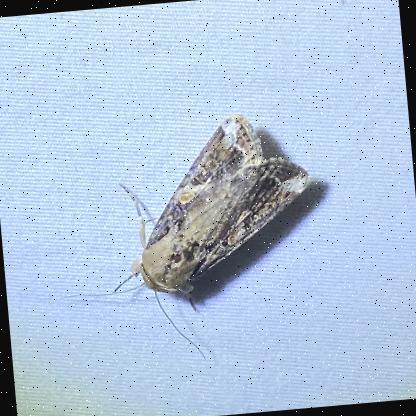Fall Armyworm Moth: (44, 104, 328, 376)
